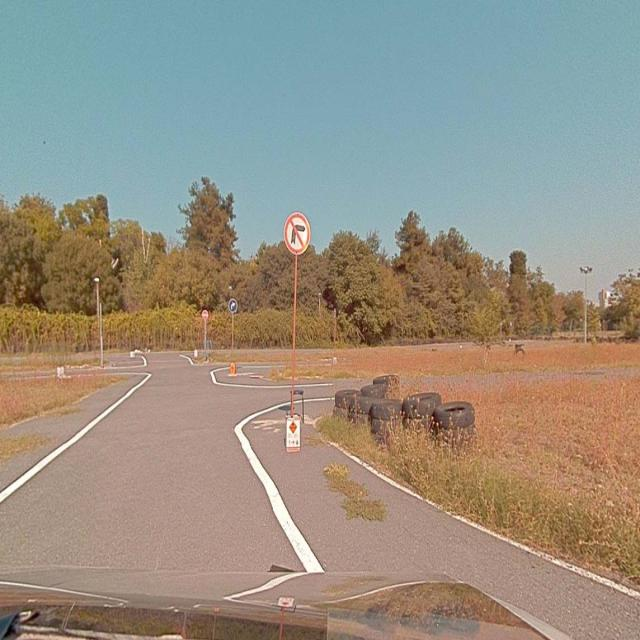girisyok: (202, 310, 208, 320)
sag: (228, 299, 238, 312)
sagadonulmez: (285, 215, 310, 253)
